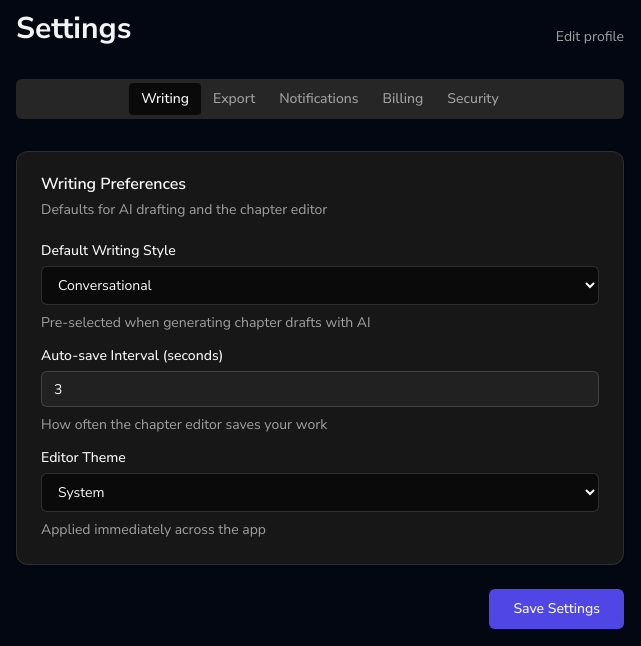
Test: SettingsPage billing tab › shows the current plan from GET /users/me on the Billing tab
The width and height of the screenshot is (641, 646).
expect the button "Save Settings" is enabled: met, box [489,589,624,629]
Click the tab "Billing". click: [403, 99]
box: [370,83,435,115]
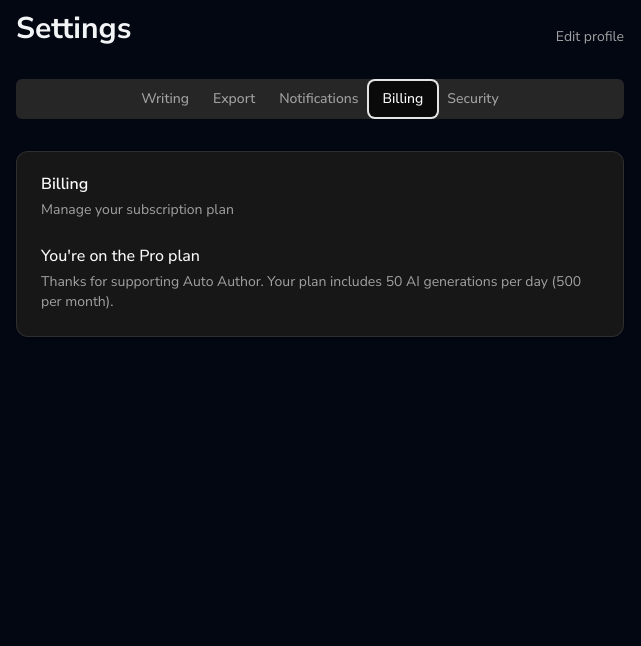
expect the text "You're on the Pro plan" is shown: met, box [41,245,200,267]
